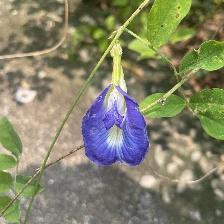shankupushpam: (82, 83, 151, 167)
